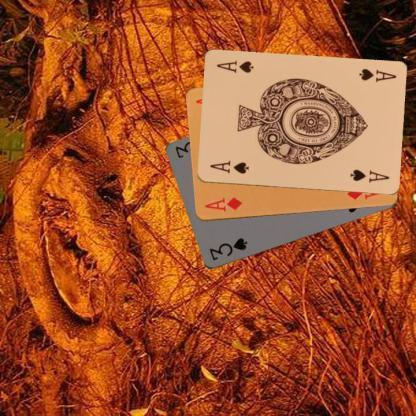3s: (206, 235, 249, 262)
Ad: (202, 194, 244, 214)
As: (355, 66, 398, 84), (207, 159, 250, 176)
